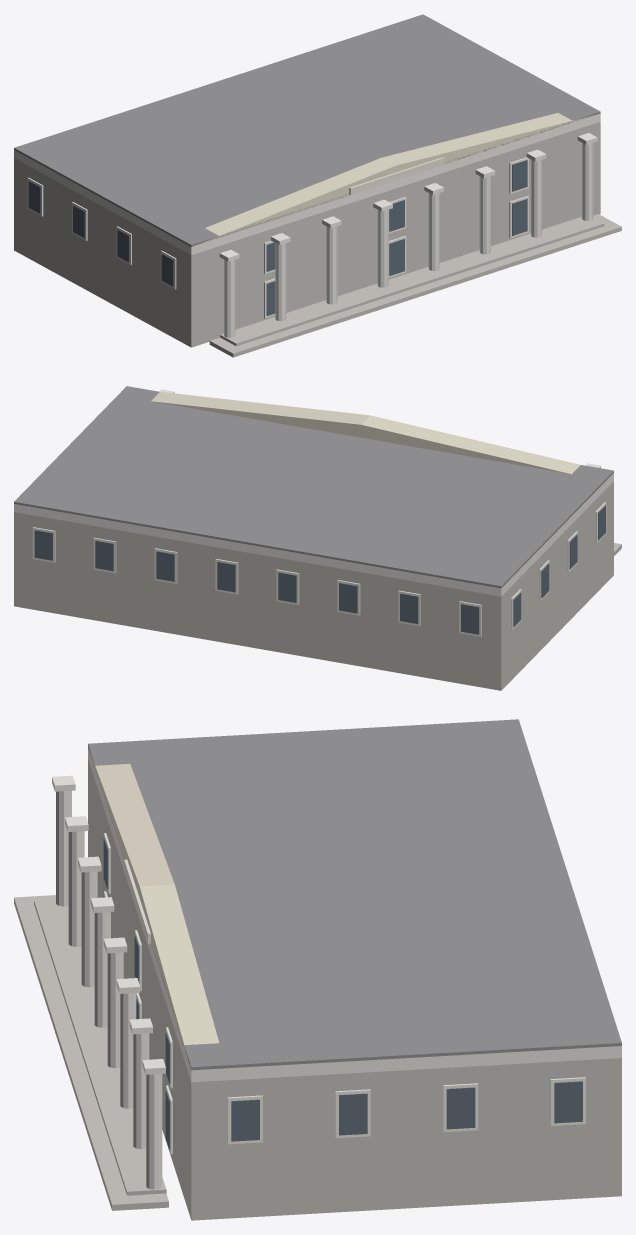
The model's file is double_bank_detail.glb.
The picture shows the model from 3 angles, top to bottom: view 1: azimuth 30°, elevation 25°; view 2: azimuth 150°, elevation 25°; view 3: azimuth 270°, elevation 25°; orthographic projection. The views are drawn at different scales.
Visible parts, largest first — view 1: roofslab, mass, pediment, step2, entab, step1, col_4, col_1, col_3, col_7, col_2, col_0 (+5 smaller); view 2: roofslab, mass, pediment, entab, win_2_0.06_4.6, win_2_0.31_4.6, win_2_0.56_4.6, win_2_0.19_4.6, win_2_0.44_4.6, win_2_0.69_4.6, win_2_0.81_4.6, win_2_0.94_4.6; view 3: roofslab, mass, pediment, step2, step1, entab, col_7, col_5, col_1, col_6, col_4, col_2 (+6 smaller).
Boxes of the visible parts, bbox=[...] form: roofslab: bbox=[14, 14, 600, 246]; mass: bbox=[14, 121, 600, 347]; pediment: bbox=[196, 113, 598, 245]; step2: bbox=[220, 216, 604, 346]; entab: bbox=[14, 113, 600, 254]; step1: bbox=[209, 214, 621, 357]; col_4: bbox=[428, 184, 439, 270]; col_1: bbox=[275, 235, 286, 321]; col_3: bbox=[377, 201, 388, 287]; col_7: bbox=[582, 134, 593, 220]; col_2: bbox=[326, 218, 337, 304]; col_0: bbox=[224, 251, 235, 337]; roofslab: bbox=[14, 386, 613, 588]; mass: bbox=[14, 481, 613, 690]; pediment: bbox=[151, 392, 607, 479]; entab: bbox=[14, 473, 613, 596]; win_2_0.06_4.6: bbox=[34, 530, 52, 560]; win_2_0.31_4.6: bbox=[156, 551, 174, 581]; win_2_0.56_4.6: bbox=[278, 572, 296, 602]; win_2_0.19_4.6: bbox=[95, 540, 113, 571]; win_2_0.44_4.6: bbox=[217, 562, 235, 592]; win_2_0.69_4.6: bbox=[339, 583, 357, 613]; win_2_0.81_4.6: bbox=[400, 593, 418, 623]; win_2_0.94_4.6: bbox=[461, 604, 479, 634]; roofslab: bbox=[88, 719, 621, 1070]; mass: bbox=[88, 759, 621, 1220]; pediment: bbox=[89, 751, 219, 1067]; step2: bbox=[34, 899, 166, 1195]; step1: bbox=[14, 895, 168, 1210]; entab: bbox=[88, 747, 621, 1082]; col_7: bbox=[146, 1060, 162, 1189]; col_5: bbox=[120, 979, 136, 1108]; col_1: bbox=[68, 817, 84, 946]; col_6: bbox=[133, 1020, 149, 1149]; col_4: bbox=[107, 940, 123, 1068]; col_2: bbox=[81, 859, 97, 987].
Bounding box in the file's own units: 37.23 × 8.6 × 27.49.
